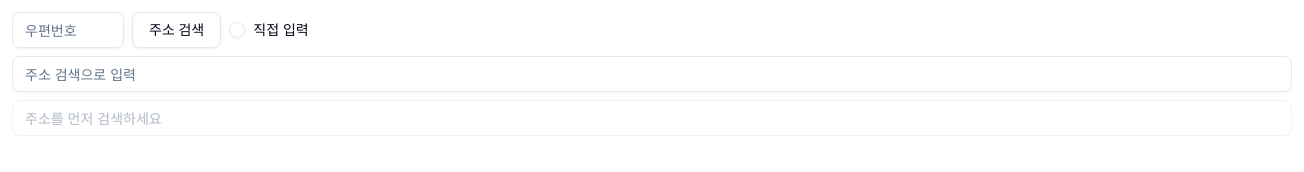
CustomerAddressInput › embeds the search UI when the popup script is not ready
Click the button "주소 검색": [177, 30] box x1=132 y1=12 x2=221 y2=48
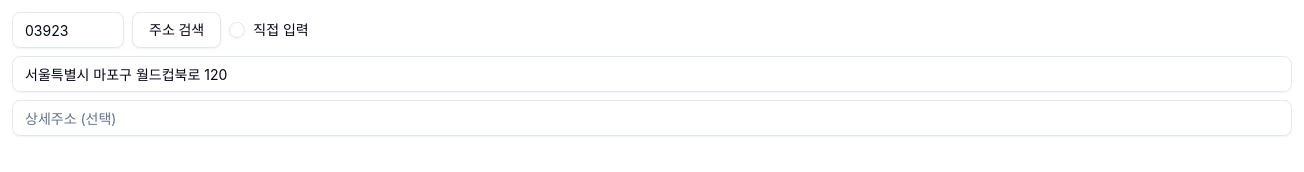
Now the field named "우편번호" holds "03923", box x1=12 y1=12 x2=124 y2=48
